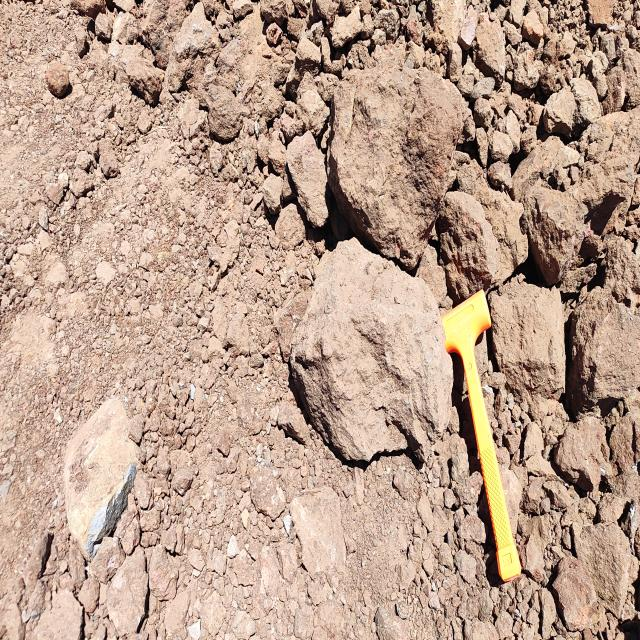Orange_hammer: (441, 288, 522, 583)
